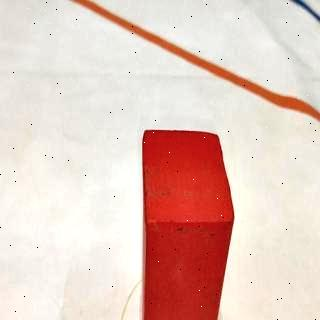redbox: (141, 127, 235, 320)
